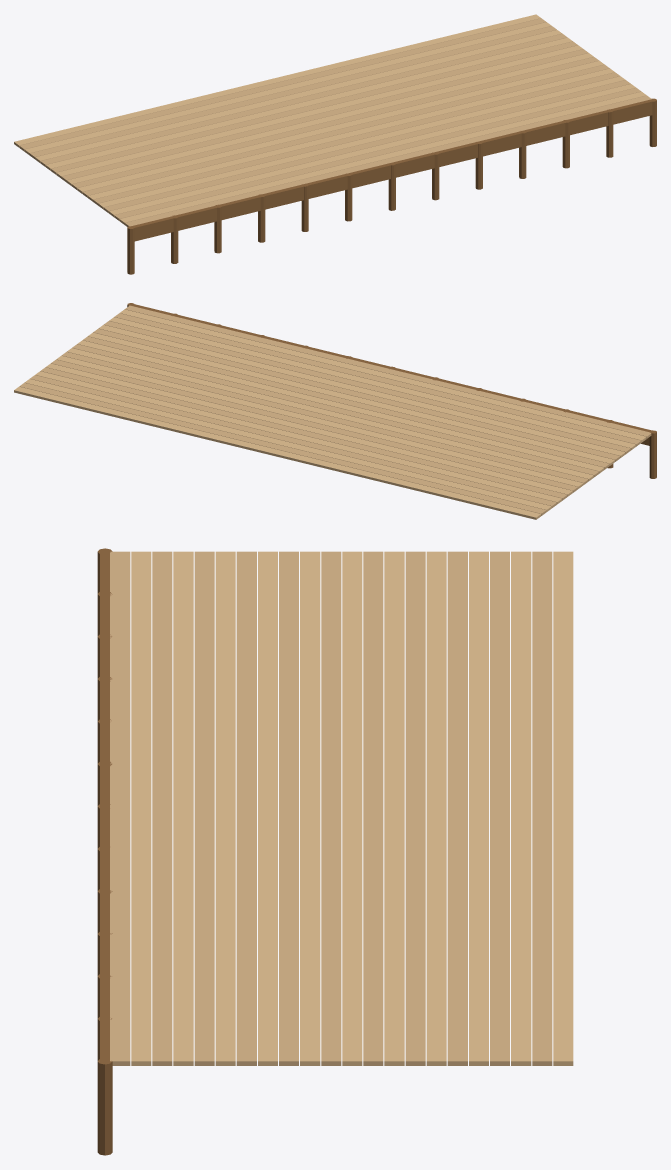
Rendered from harbour_deck.glb.
The picture shows the model from 3 angles, top to bottom: view 1: azimuth 30°, elevation 25°; view 2: azimuth 150°, elevation 25°; view 3: azimuth 270°, elevation 25°; orthographic projection. The views are drawn at different scales.
Parts seen in each view (by area): view 1: harbour_deck; view 2: harbour_deck; view 3: harbour_deck.
Part boxes in pixels (x1,y1,x2,y2): harbour_deck: (14, 14, 656, 274); harbour_deck: (14, 303, 656, 519); harbour_deck: (97, 548, 573, 1155).
Bounding box in the file's own units: 24.3 × 2 × 9.47.
